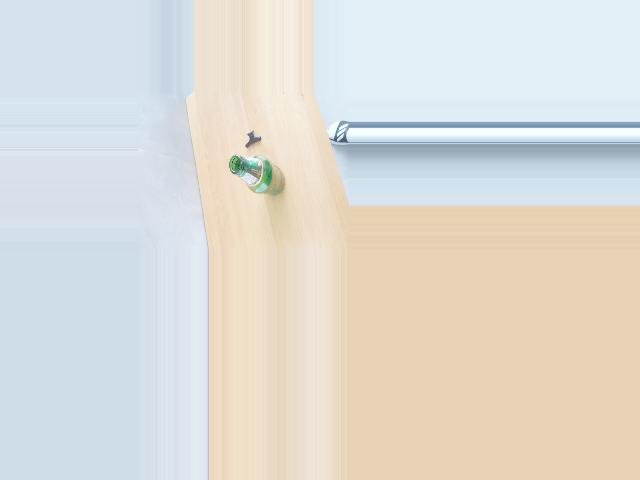beer: (229, 154, 285, 196)
